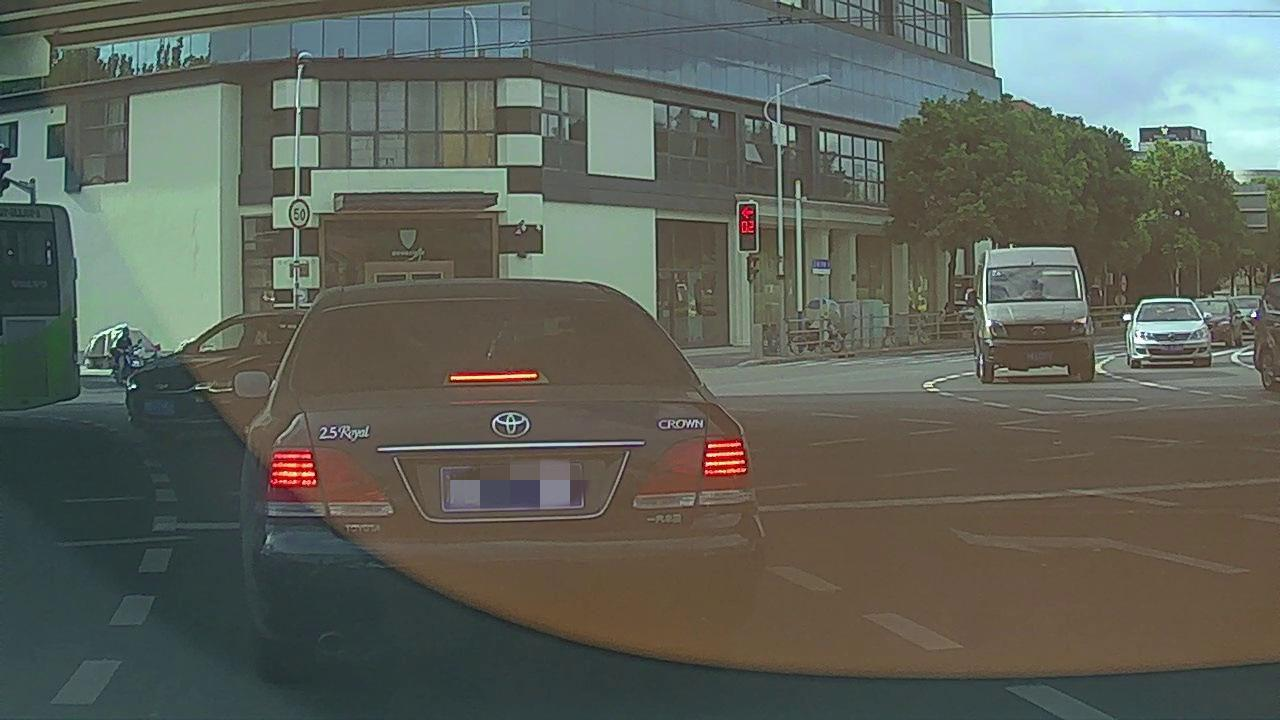traffic_light: (737, 203, 758, 251)
